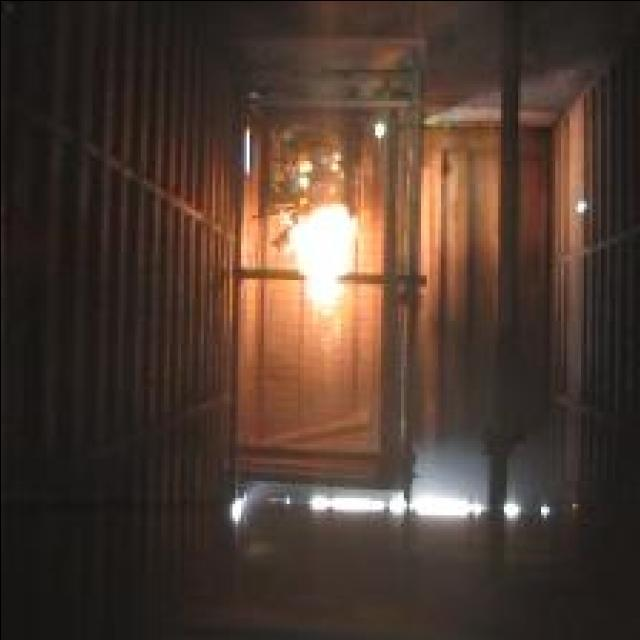Fire: (283, 200, 357, 312)
